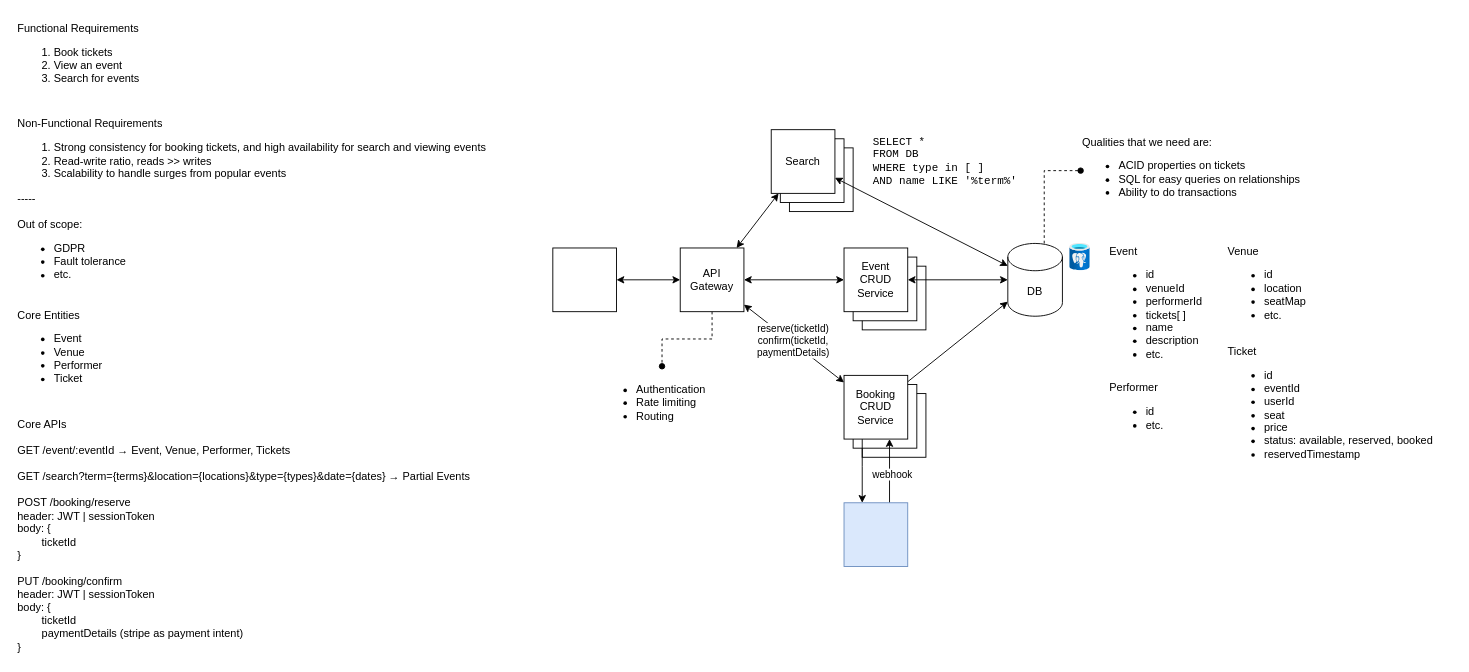
This 1469x672 diagram has some shape labels left out. The shapes that lost their labels are listed below. From the top down, each one's centre as x and y in pixels, then its label:
point 584,279: Web/Mobile Client
point 875,534: Stripe
